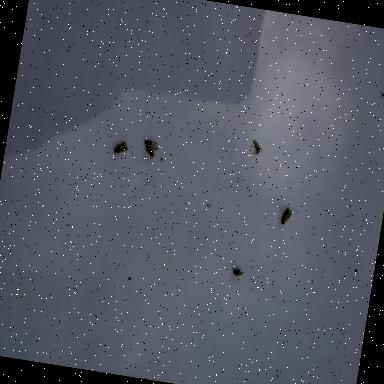pbw: (112, 138, 129, 158), (278, 206, 293, 226), (143, 145, 158, 160), (250, 140, 264, 156), (232, 269, 243, 278)
